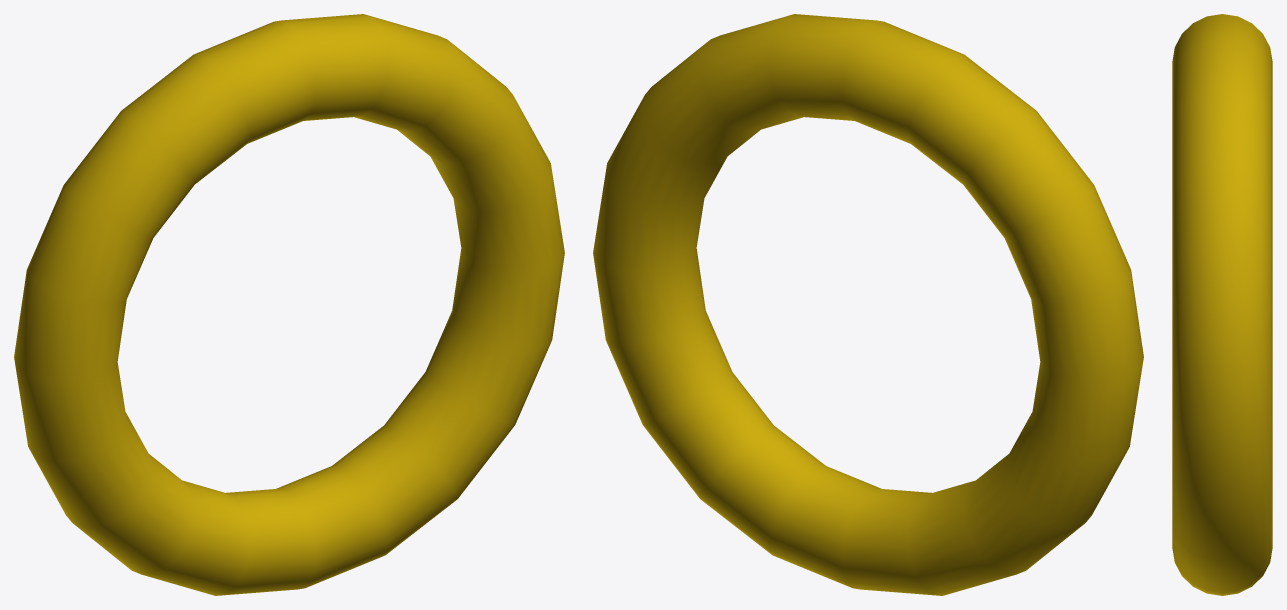
The model's file is 원불교 동그라미.fbx.
3 renders of one model, left to right at view 1: azimuth 30°, elevation 25°; view 2: azimuth 150°, elevation 25°; view 3: azimuth 270°, elevation 25°, orthographic. The views are drawn at different scales.
Parts seen in each view (by area): view 1: pTorus1; view 2: pTorus1; view 3: pTorus1.
Part boxes in pixels (bbox=[...]): pTorus1: bbox=[14, 14, 564, 595]; pTorus1: bbox=[593, 14, 1143, 595]; pTorus1: bbox=[1172, 14, 1272, 595].
Bounding box in the file's own units: 4.97 × 4.97 × 0.8518.
